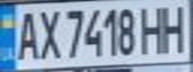1: (100, 4, 121, 56)
4: (81, 5, 103, 57)
7: (60, 4, 84, 58)
8: (115, 3, 139, 56)
A: (12, 7, 42, 61)
H: (136, 2, 169, 55), (157, 1, 190, 54)
X: (33, 4, 60, 61)
